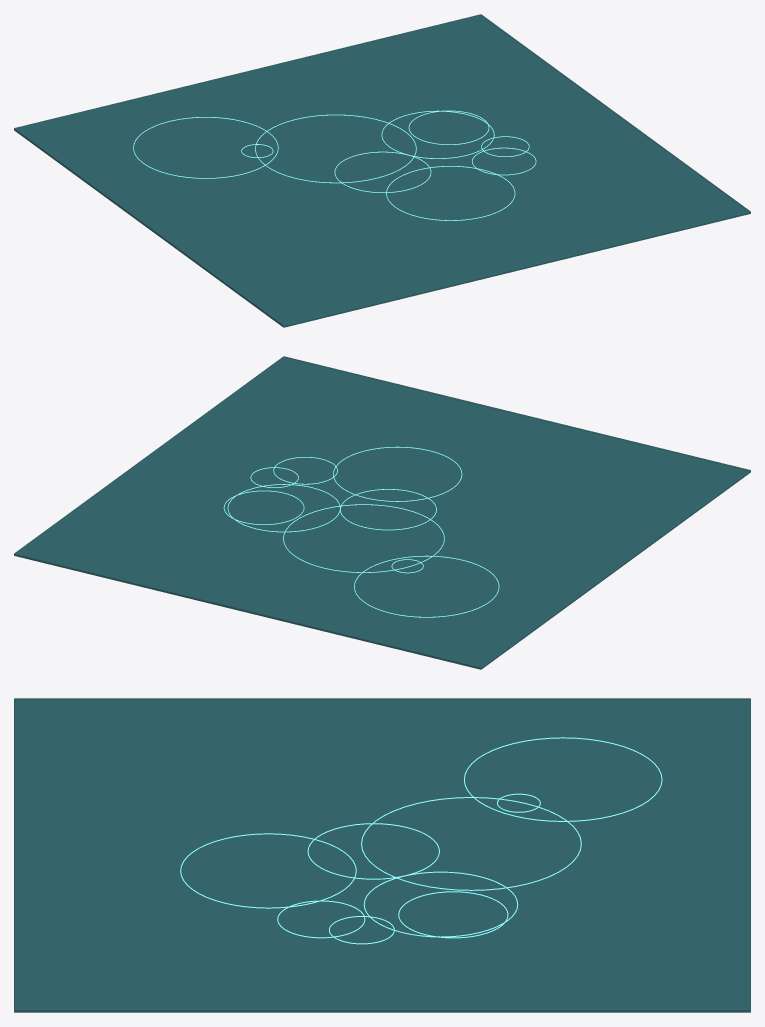
File: SM_FC01_Water_TurbidPlane_A.fbx
3 renders of one model, top to bottom at view 1: azimuth 30°, elevation 25°; view 2: azimuth 150°, elevation 25°; view 3: azimuth 270°, elevation 25°, orthographic. The views are drawn at different scales.
Visible parts, largest first — view 1: SM_FC01_Water_TurbidPlane_A_Surface; view 2: SM_FC01_Water_TurbidPlane_A_Surface; view 3: SM_FC01_Water_TurbidPlane_A_Surface, トーラス.026, トーラス.025, トーラス.024, トーラス.023.
Boxes of the visible parts, x1,y1,x2,y2 form: SM_FC01_Water_TurbidPlane_A_Surface: (14,14,750,327); SM_FC01_Water_TurbidPlane_A_Surface: (14,356,750,669); SM_FC01_Water_TurbidPlane_A_Surface: (14,698,750,1012); トーラス.026: (361,797,581,890); トーラス.025: (464,737,662,821); トーラス.024: (180,833,356,908); トーラス.023: (363,871,518,937).
Size of the model in its own units: 12 by 0.078 by 12.
